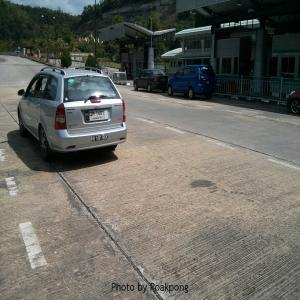Vehicle-registration-plate: (84, 111, 106, 124)
